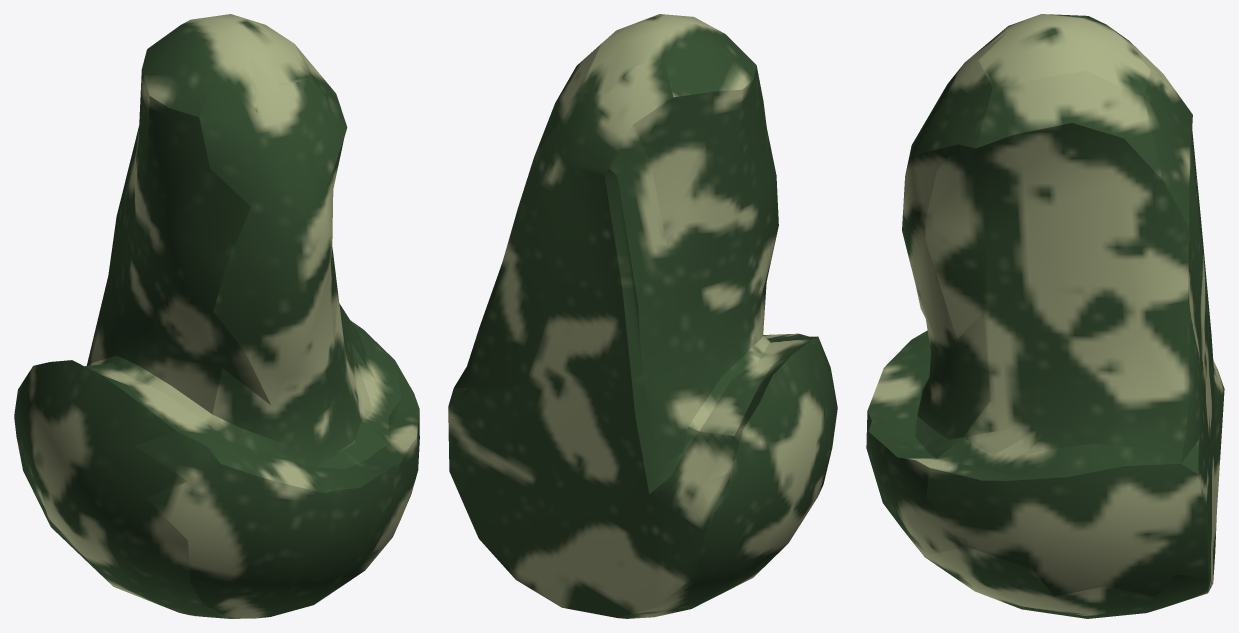
The model's file is link_leg_1_R_0_composite.obj.
The picture shows the model from 3 angles, left to right: view 1: azimuth 30°, elevation 25°; view 2: azimuth 150°, elevation 25°; view 3: azimuth 270°, elevation 25°; orthographic projection. The views are drawn at different scales.
Visible parts, largest first — view 1: link_leg_1_R_0; view 2: link_leg_1_R_0; view 3: link_leg_1_R_0.
Boxes of the visible parts, bbox=[...] form: link_leg_1_R_0: bbox=[14, 14, 419, 618]; link_leg_1_R_0: bbox=[448, 14, 837, 618]; link_leg_1_R_0: bbox=[866, 14, 1224, 618].
Bounding box in the file's own units: 8.47 × 14.15 × 8.
1 material, 1 textured.
